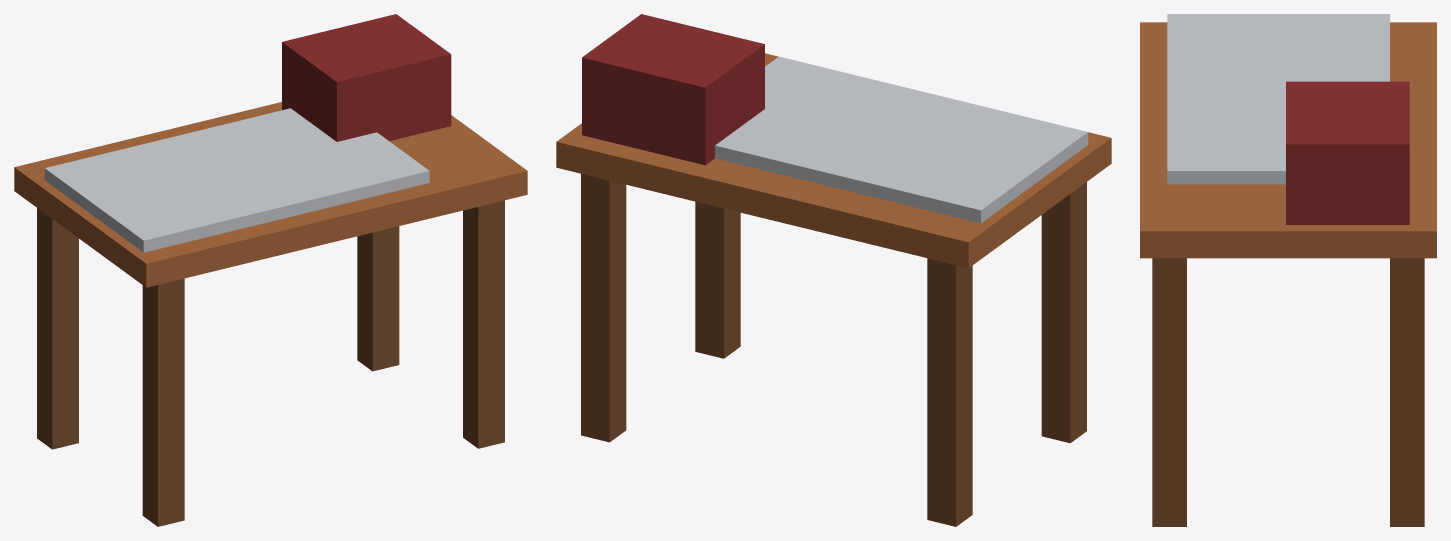
The model's file is cash_table.glb.
3 views of the same model, side by side, from view 1: azimuth 30°, elevation 25°; view 2: azimuth 150°, elevation 25°; view 3: azimuth 270°, elevation 25° (orthographic). The views are drawn at different scales.
Visible parts, largest first — view 1: cash_table; view 2: cash_table; view 3: cash_table.
Boxes of the visible parts, x1,y1,x2,y2 form: cash_table: (14,14,527,526); cash_table: (556,14,1111,526); cash_table: (1140,14,1436,526).
Size of the model in its own units: 1 by 0.86 by 0.6.
1 material, 1 textured.
